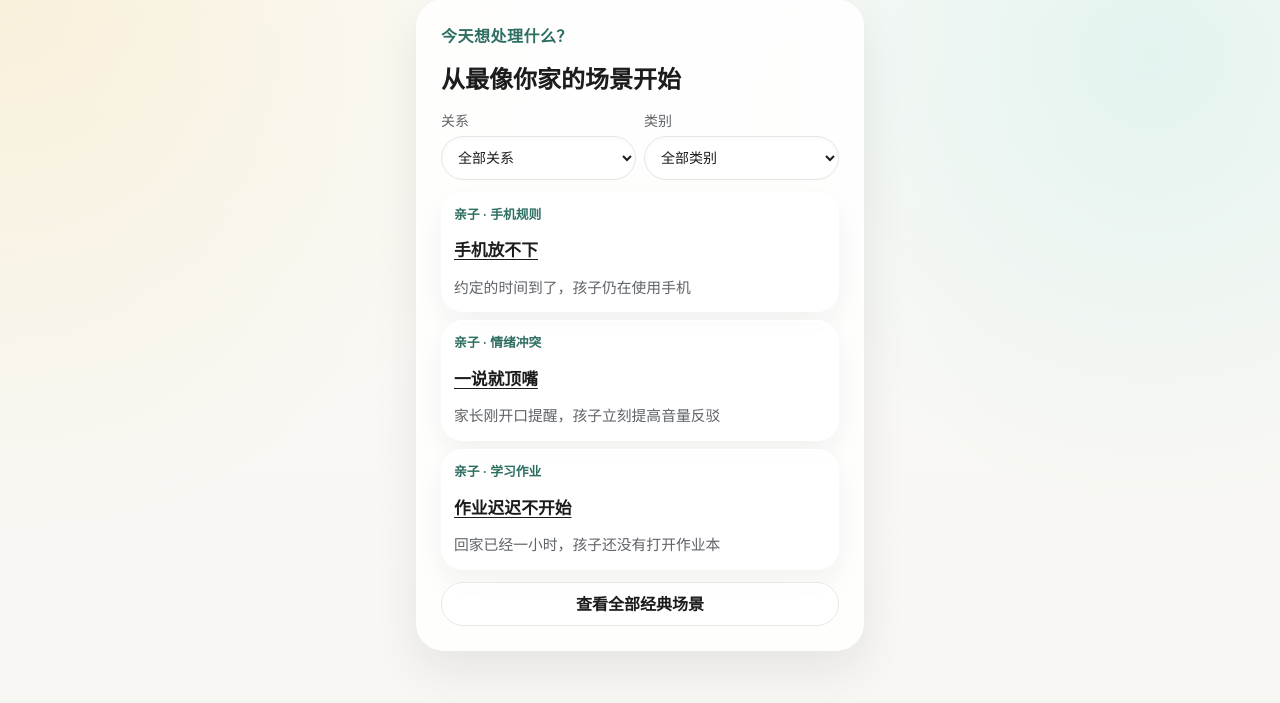
Test: SceneHomePage › toggles every matching scene without losing button focus
Check: the link "手机放不下" is shown, box [454, 240, 538, 260]
Check: the text "家务总要催" is not shown
Click the button "查看全部经典场景". click: coordinates (640, 604)
box: [441, 582, 839, 626]
(page scrolled)
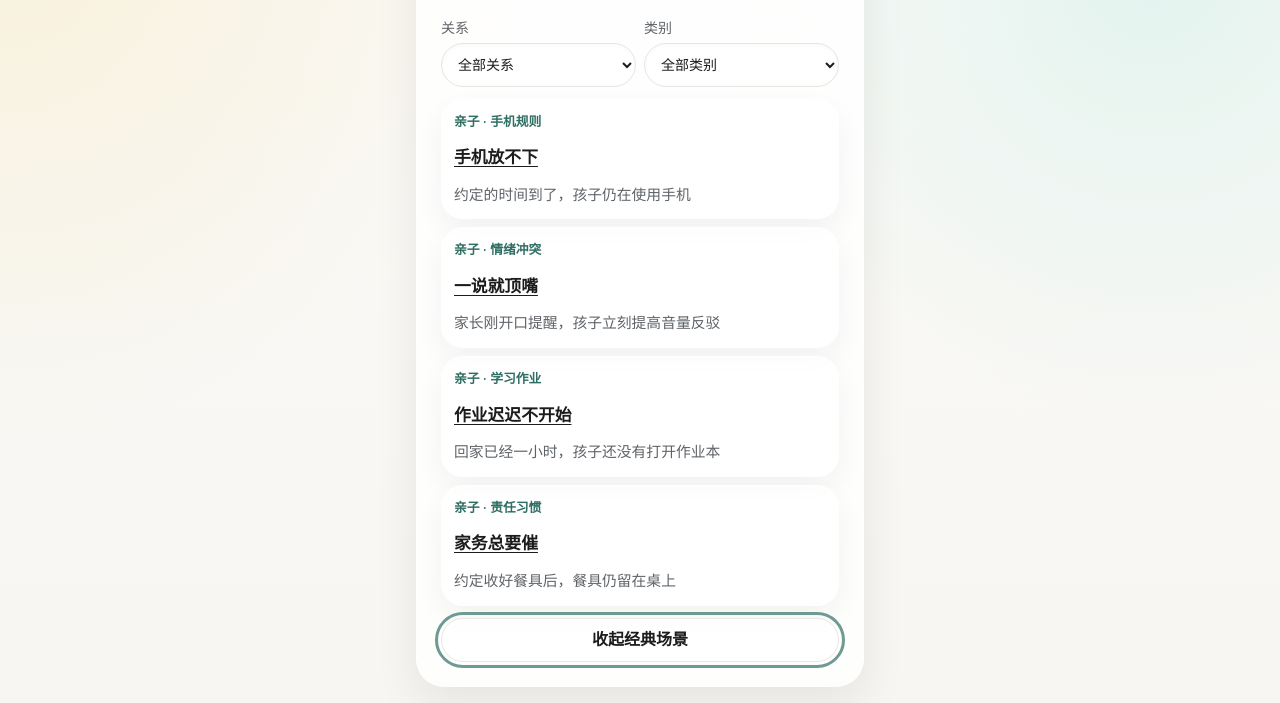
Check: the link "家务总要催" is shown, box [454, 533, 538, 553]
Check: the button named "查看全部经典场景" reads "收起经典场景"
Check: the button named "查看全部经典场景" is expanded
Click the button named "查看全部经典场景". click: coordinates (640, 640)
box: [441, 618, 839, 662]
(page scrolled)
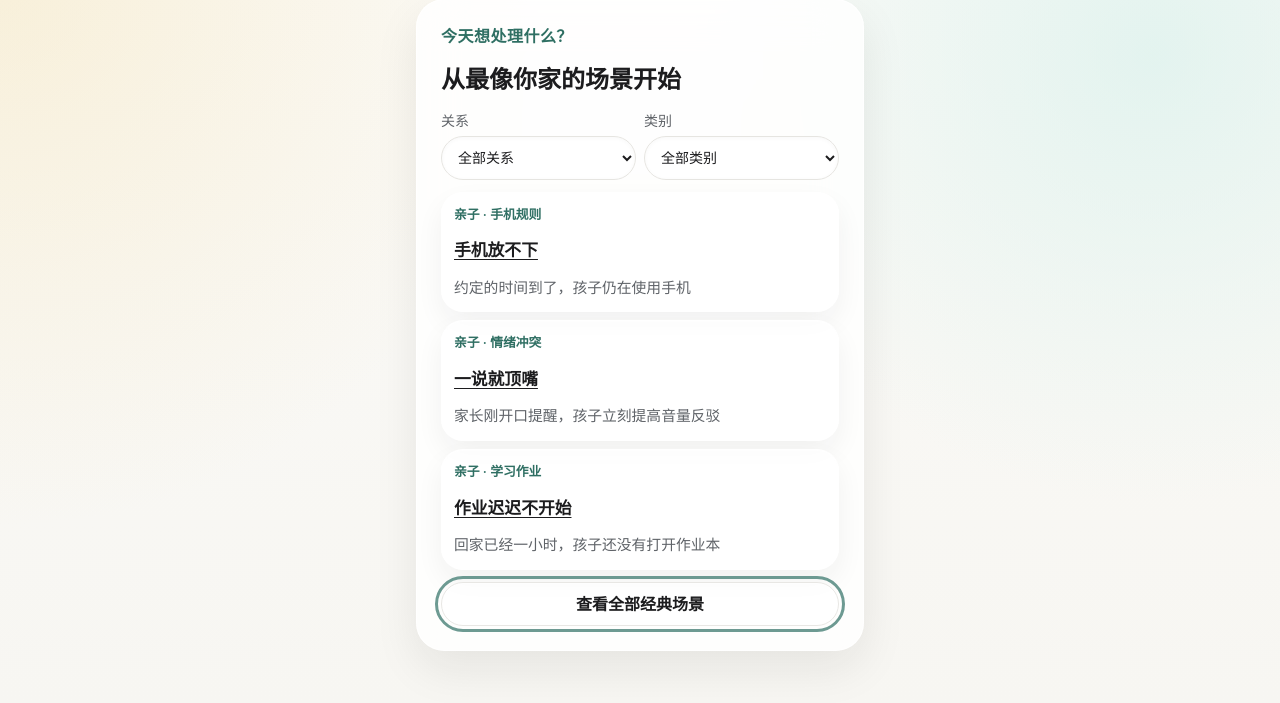
Check: the link "家务总要催" is gone
Check: the button "查看全部经典场景" is shown, box [441, 582, 839, 626]
Check: the button "查看全部经典场景" is collapsed, box [441, 582, 839, 626]
